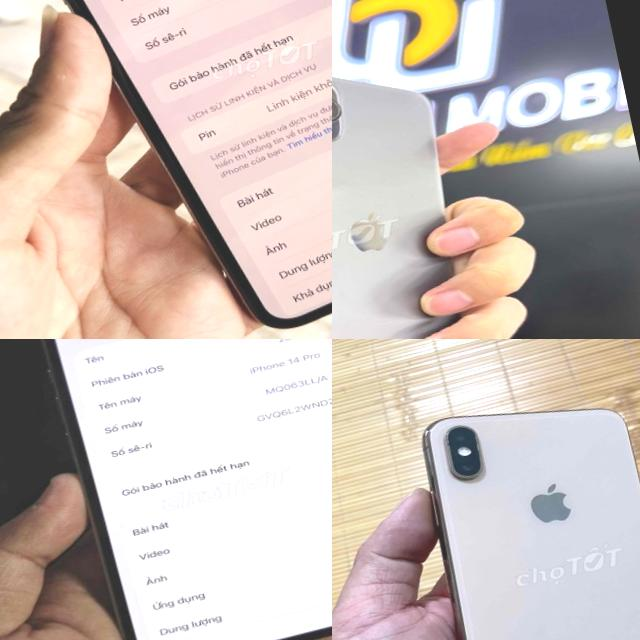gen_11: (332, 76, 453, 339)
gen_14: (12, 339, 332, 640)
gen_x_xs: (64, 0, 332, 327), (414, 372, 640, 640)
